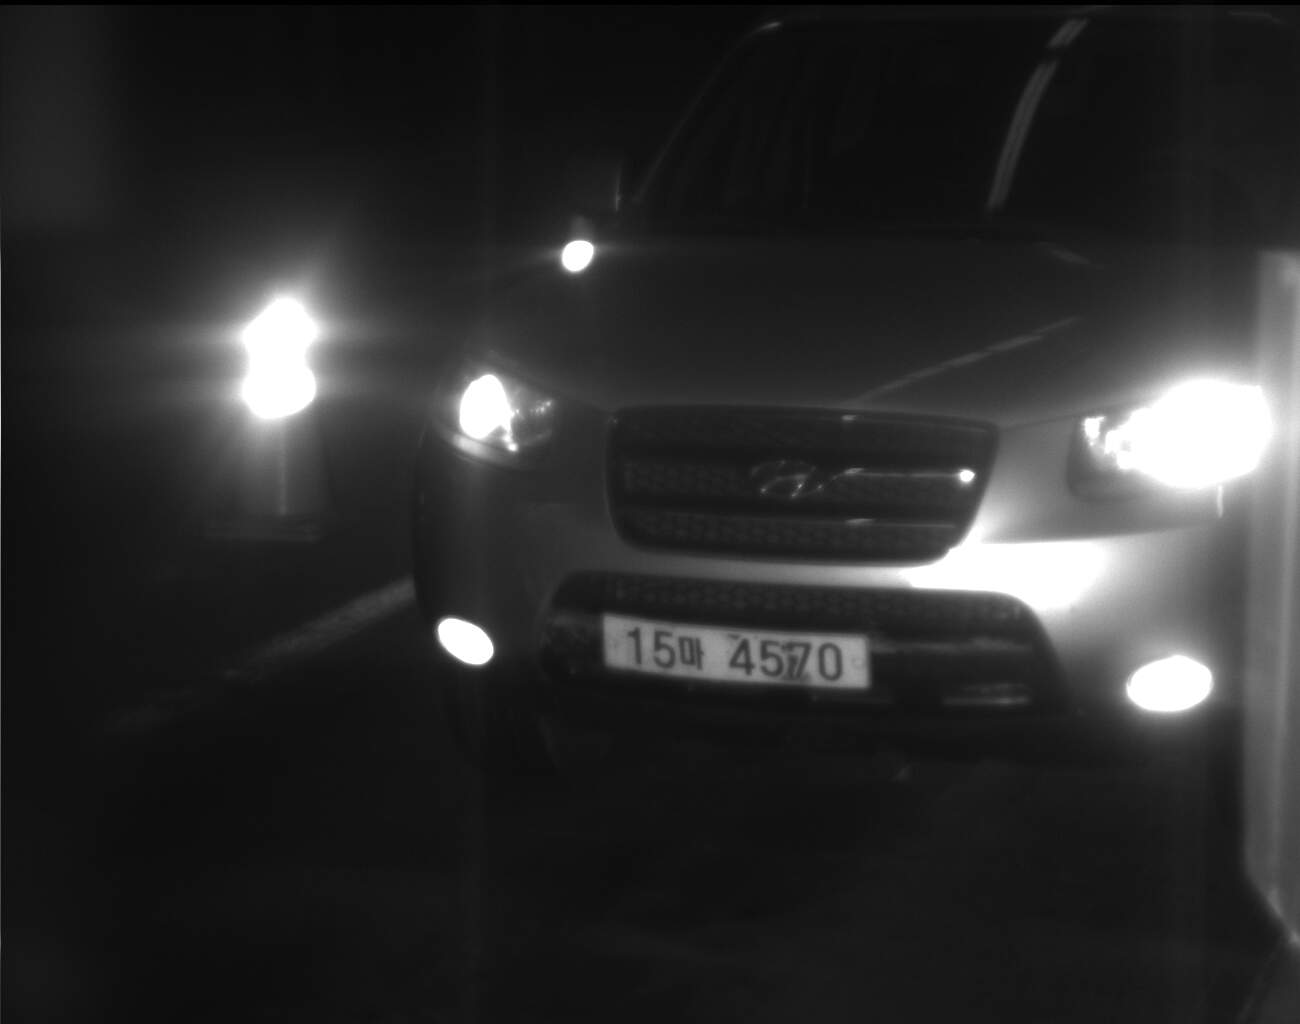car: (409, 1, 1299, 803)
plate: (597, 609, 874, 695)
